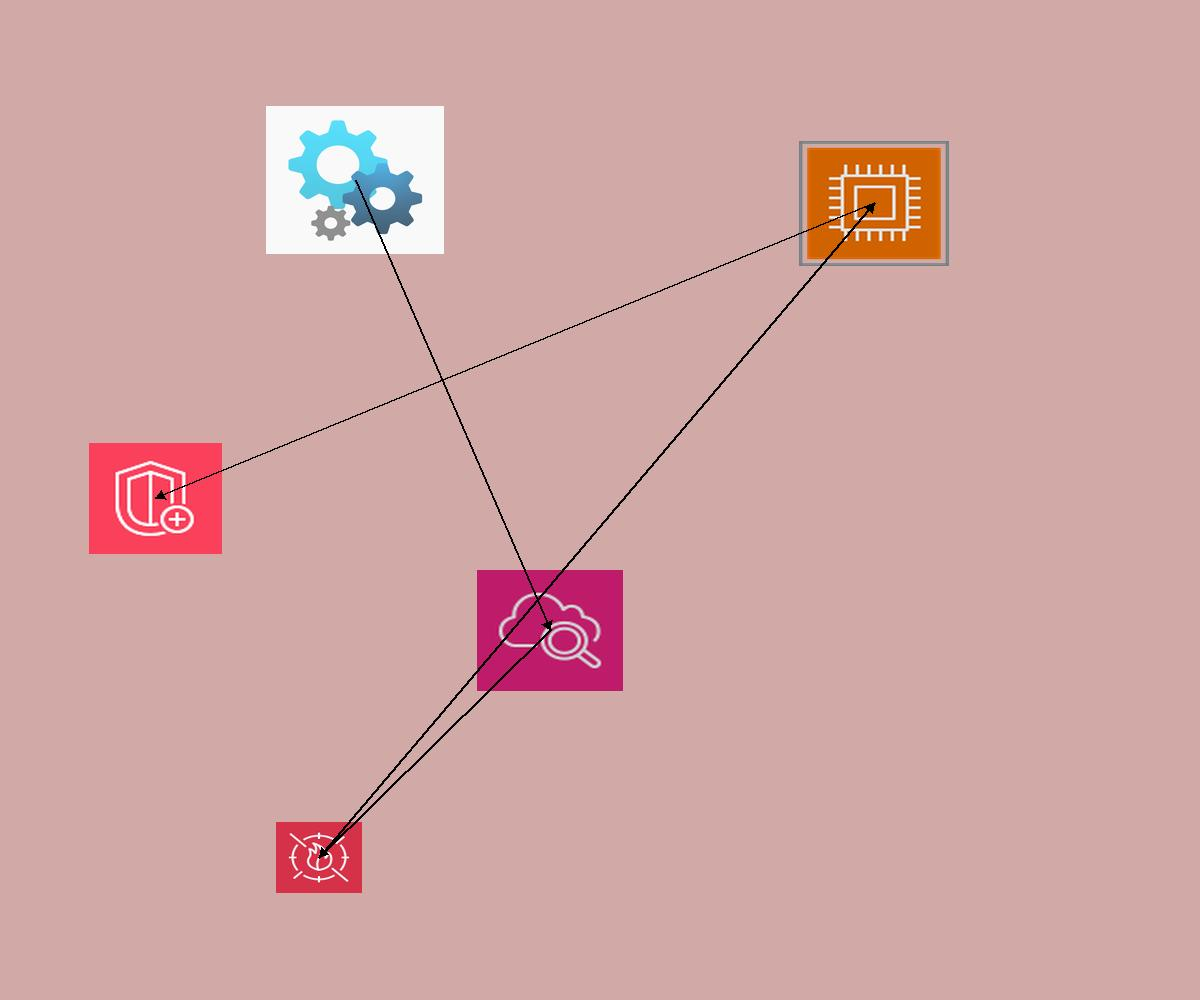AWS-Category_Compute: (799, 141, 949, 266)
AWS-CloudWatch: (477, 570, 623, 691)
AWS-Shield: (89, 443, 222, 554)
AWS-WAF: (276, 822, 362, 893)
Azure_api: (266, 106, 444, 254)
